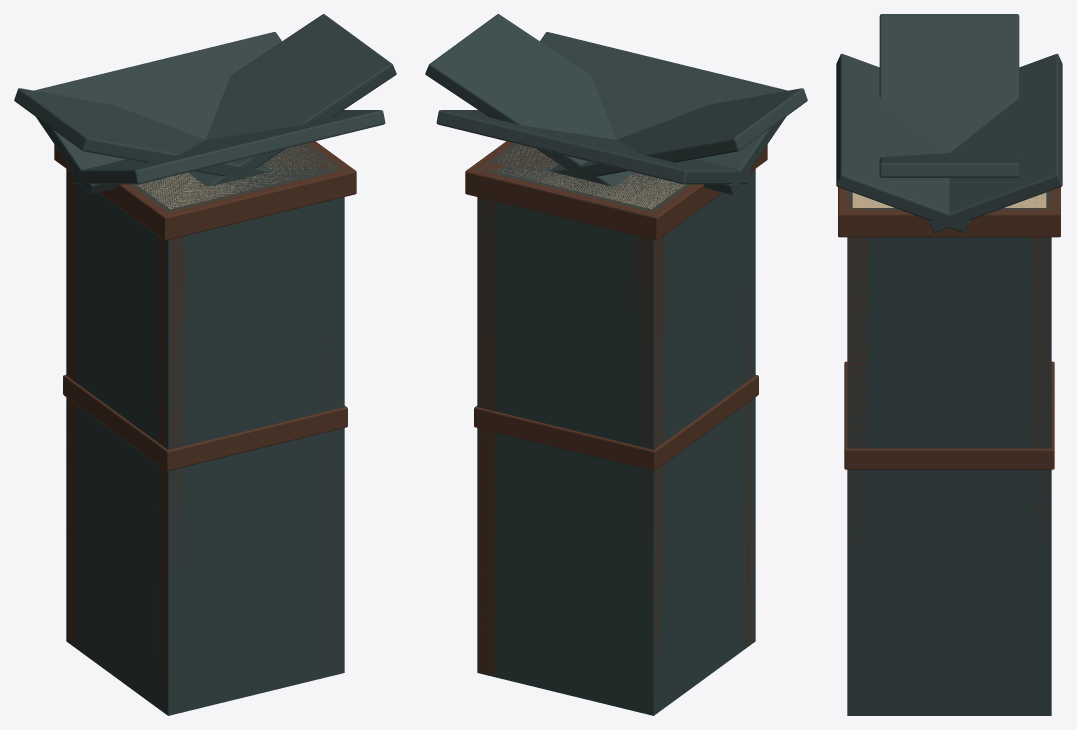
The model's file is env-corner-a.glb.
3 renders of one model, left to right at view 1: azimuth 30°, elevation 25°; view 2: azimuth 150°, elevation 25°; view 3: azimuth 270°, elevation 25°, orthographic.
Parts seen in each view (by area): view 1: COL_corner, VIS_cap_4, VIS_cap_2, VIS_plate_top, VIS_cap_3, VIS_post_sw, VIS_cap_1, VIS_band_mid, VIS_post_nw, VIS_plaster; view 2: COL_corner, VIS_cap_4, VIS_cap_1, VIS_plate_top, VIS_cap_3, VIS_post_ne, VIS_cap_2, VIS_post_nw, VIS_band_mid, VIS_plaster, VIS_post_sw; view 3: COL_corner, VIS_cap_3, VIS_cap_1, VIS_cap_2, VIS_plate_top, VIS_band_mid, VIS_post_se, VIS_post_ne, VIS_cap_4, VIS_plaster.
Part boxes in pixels (x1,y1,x2,y2): COL_corner: [66, 143, 344, 715]; VIS_cap_4: [188, 14, 396, 186]; VIS_cap_2: [34, 32, 281, 194]; VIS_plate_top: [54, 141, 356, 240]; VIS_cap_3: [14, 88, 271, 178]; VIS_post_sw: [158, 204, 185, 712]; VIS_cap_1: [72, 110, 385, 184]; VIS_band_mid: [63, 375, 347, 470]; VIS_post_nw: [67, 169, 76, 646]; VIS_plaster: [138, 147, 329, 208]; COL_corner: [477, 143, 755, 715]; VIS_cap_4: [425, 14, 633, 186]; VIS_cap_1: [540, 32, 787, 194]; VIS_plate_top: [465, 141, 767, 240]; VIS_cap_3: [550, 88, 807, 178]; VIS_post_ne: [479, 163, 504, 675]; VIS_cap_2: [436, 110, 749, 184]; VIS_post_nw: [636, 204, 663, 708]; VIS_band_mid: [474, 375, 758, 470]; VIS_plaster: [498, 145, 684, 209]; VIS_post_sw: [745, 188, 754, 646]; COL_corner: [847, 190, 1051, 715]; VIS_cap_3: [879, 14, 1019, 152]; VIS_cap_1: [836, 53, 969, 232]; VIS_cap_2: [929, 53, 1062, 232]; VIS_plate_top: [838, 187, 1060, 237]; VIS_band_mid: [844, 361, 1054, 469]; VIS_post_se: [849, 201, 867, 614]; VIS_post_ne: [1031, 202, 1049, 585]; VIS_cap_4: [879, 153, 1019, 177]; VIS_plaster: [852, 192, 1046, 207].
Bounding box in the file's own units: 3.92 × 6.93 × 2.44.
